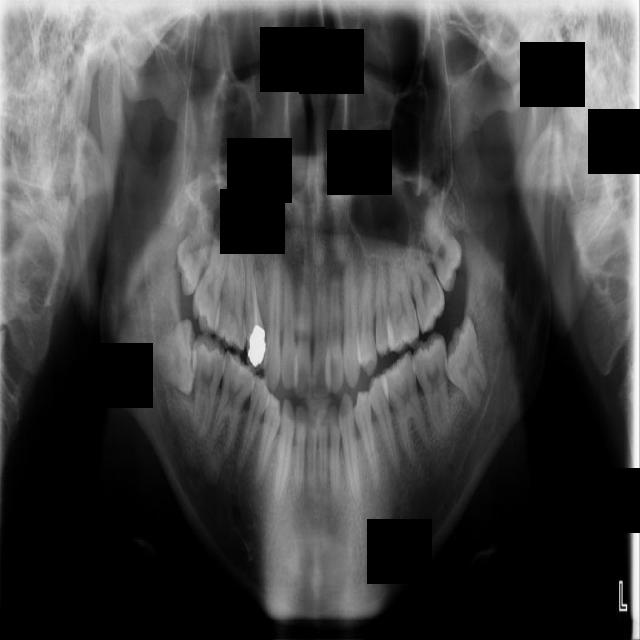3M ESPE Implant: (163, 210, 221, 297)
52: (243, 319, 268, 375), (244, 338, 252, 366)
73: (614, 570, 622, 590)
BioHorizons Implant: (402, 228, 451, 334)
BioLife Implant: (418, 198, 472, 295)
Biomet 3i Implant: (431, 314, 497, 416)
Blue Sky Bio Implant: (410, 331, 453, 442)
Caries: (189, 235, 229, 335)
Implant: (192, 332, 227, 439)
Keystone Dental Implant: (144, 312, 213, 395)
